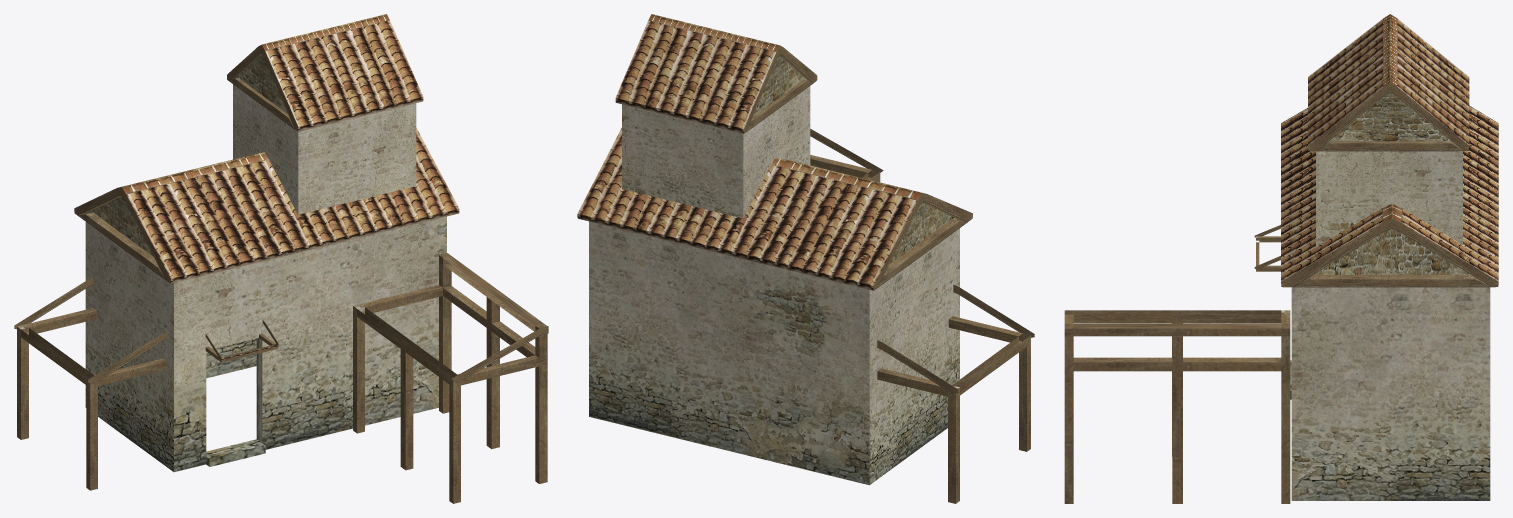
Rendered from hele_mill.dae.
3 renders of one model, left to right at view 1: azimuth 30°, elevation 25°; view 2: azimuth 150°, elevation 25°; view 3: azimuth 270°, elevation 25°, orthographic. The views are drawn at different scales.
Visible parts, largest first — view 1: default04; view 2: default04; view 3: default04.
Part boxes in pixels (x1,y1,x2,y2): default04: (14,14,548,503); default04: (577,14,1034,503); default04: (1064,14,1498,503).
Bounding box in the file's own units: 13.11 × 12.84 × 12.21.
